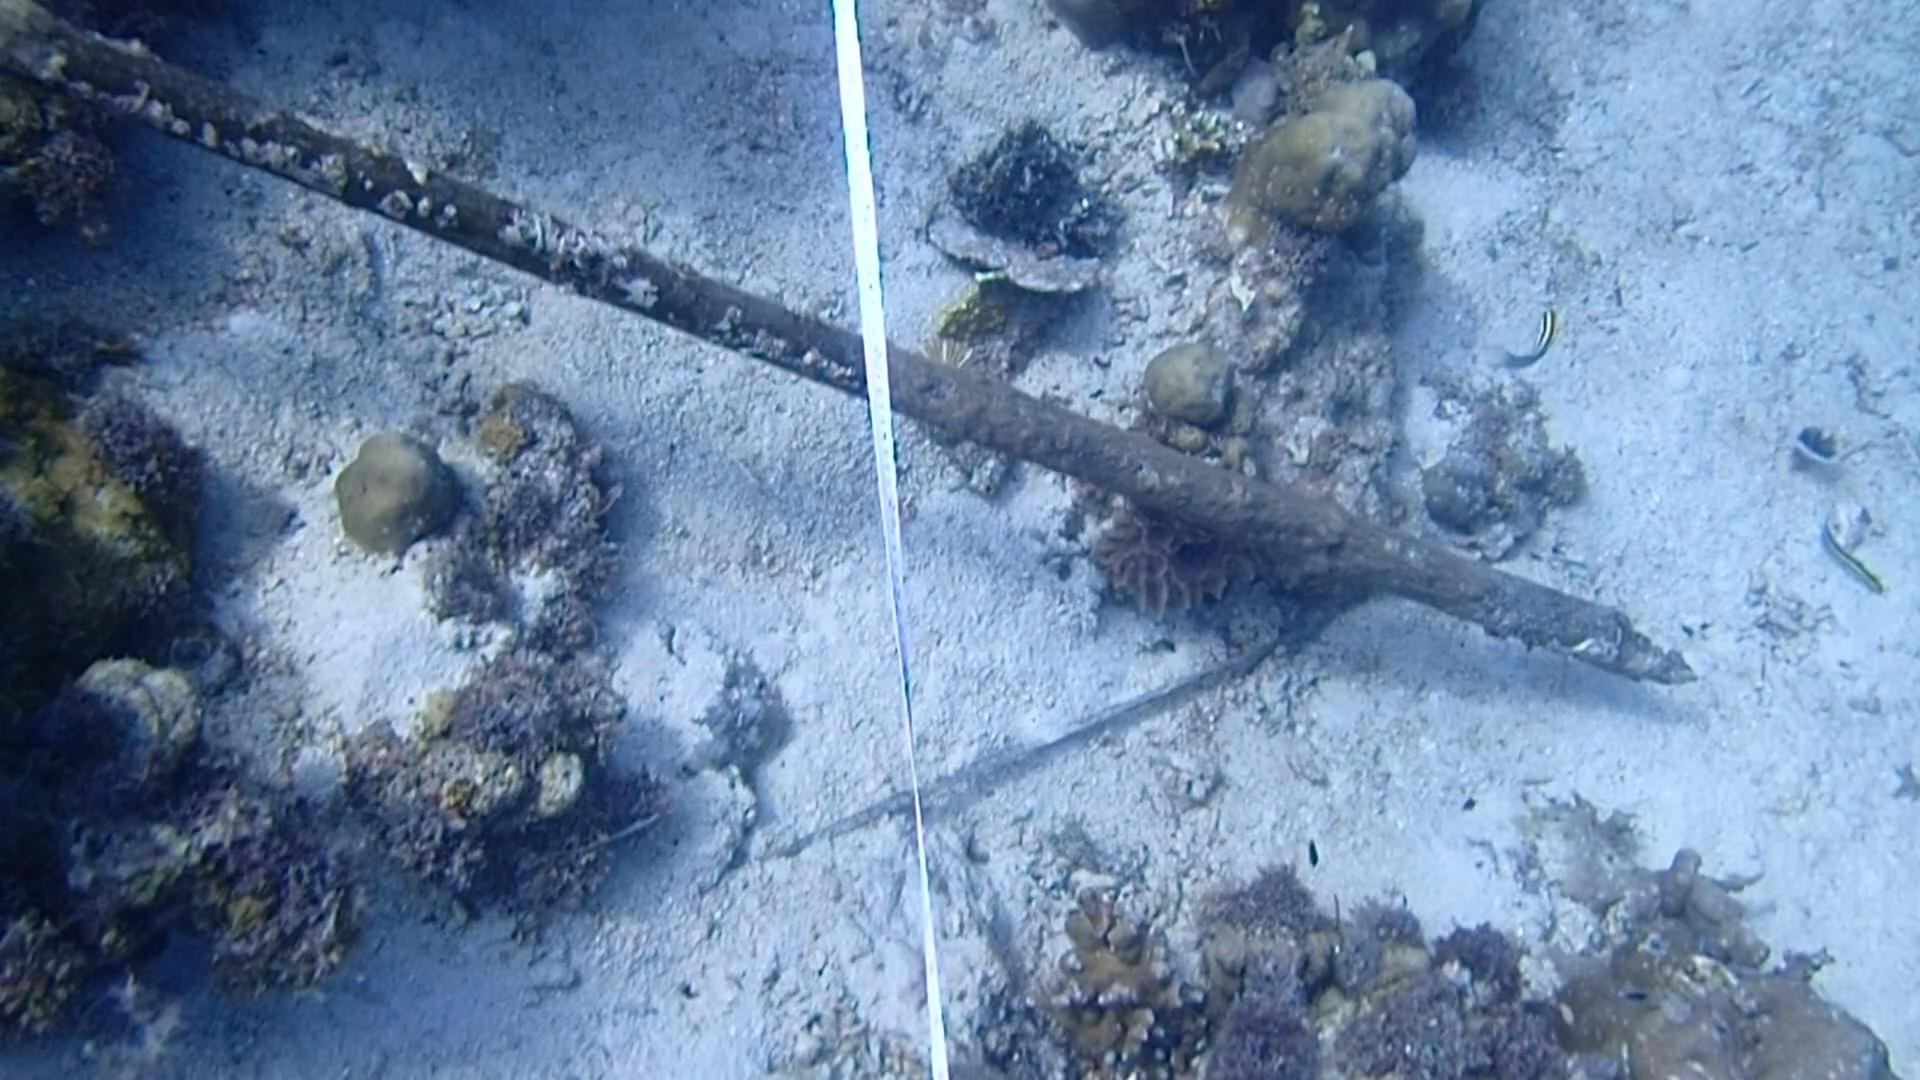Striped Fish: (1804, 516, 1894, 608), (1495, 295, 1584, 385)
